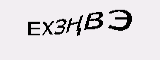В: (84, 11, 105, 31)
Е: (26, 19, 42, 37)
З: (53, 18, 66, 37)
Х: (41, 20, 55, 37)
Э: (106, 9, 135, 32)
Ң: (63, 15, 83, 35)
